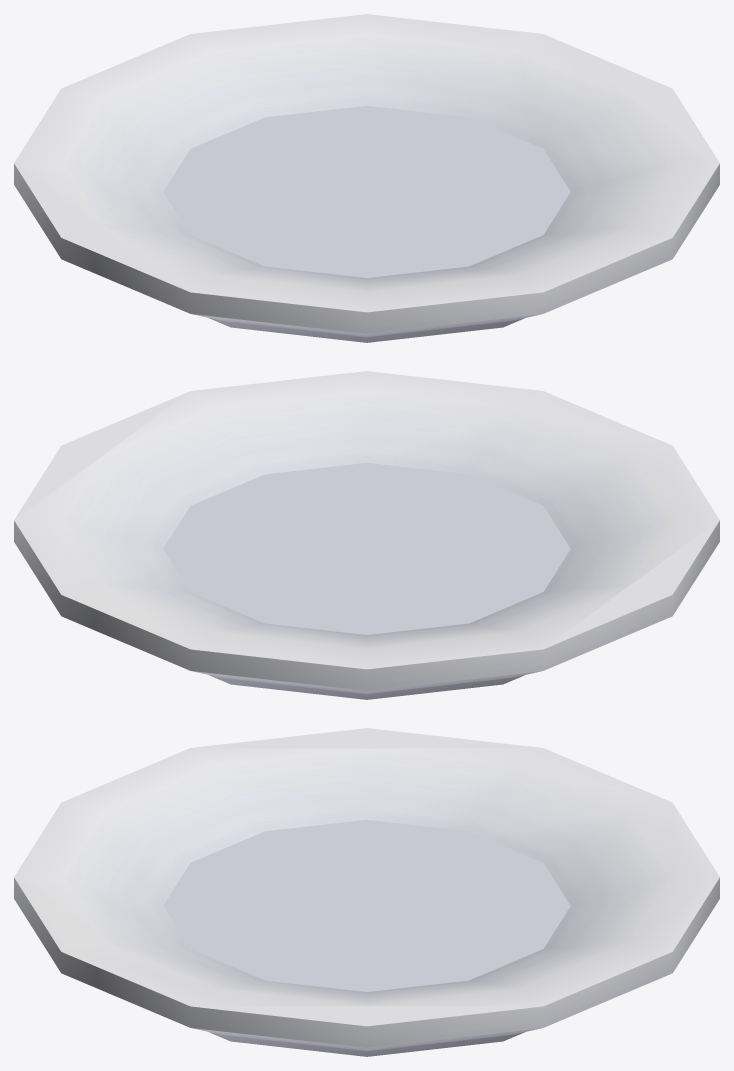
The model's file is food.plate.glb.
3 views of the same model, one above another, from view 1: azimuth 30°, elevation 25°; view 2: azimuth 150°, elevation 25°; view 3: azimuth 270°, elevation 25° (orthographic).
Parts seen in each view (by area): view 1: plate; view 2: plate; view 3: plate.
Part boxes in pixels (x1,y1,x2,y2): plate: [14, 14, 719, 342]; plate: [14, 371, 719, 699]; plate: [14, 728, 719, 1056].
Size of the model in its own units: 0.2649 by 0.0267 by 0.2649.
1 material, 1 textured.
